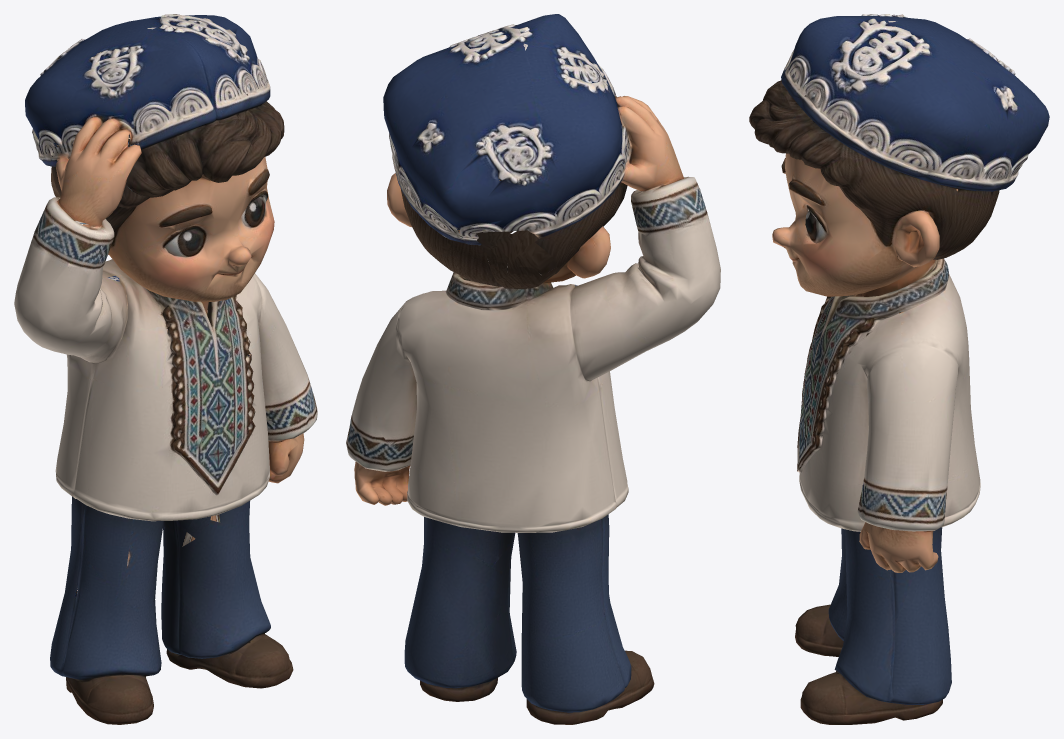
Rendered from boy.glb.
3 renders of one model, left to right at view 1: azimuth 30°, elevation 25°; view 2: azimuth 150°, elevation 25°; view 3: azimuth 270°, elevation 25°, orthographic.
Visible parts, largest first — view 1: Supplied Uyghur boy; view 2: Supplied Uyghur boy; view 3: Supplied Uyghur boy.
Part boxes in pixels (box(x1,y1,x2,y2)): Supplied Uyghur boy: box(14, 14, 317, 724); Supplied Uyghur boy: box(346, 14, 720, 724); Supplied Uyghur boy: box(749, 14, 1049, 724).
Size of the model in its own units: 0.5212 by 0.9995 by 0.412.
1 material, 1 textured.
